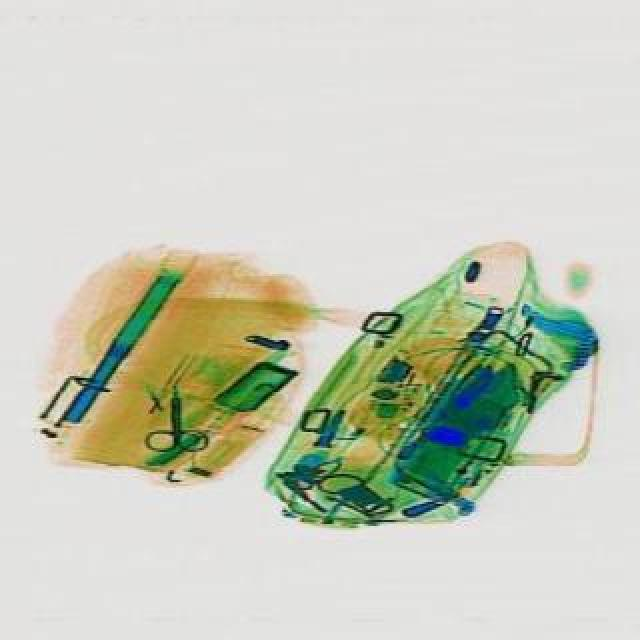pliers: (140, 382, 204, 450)
